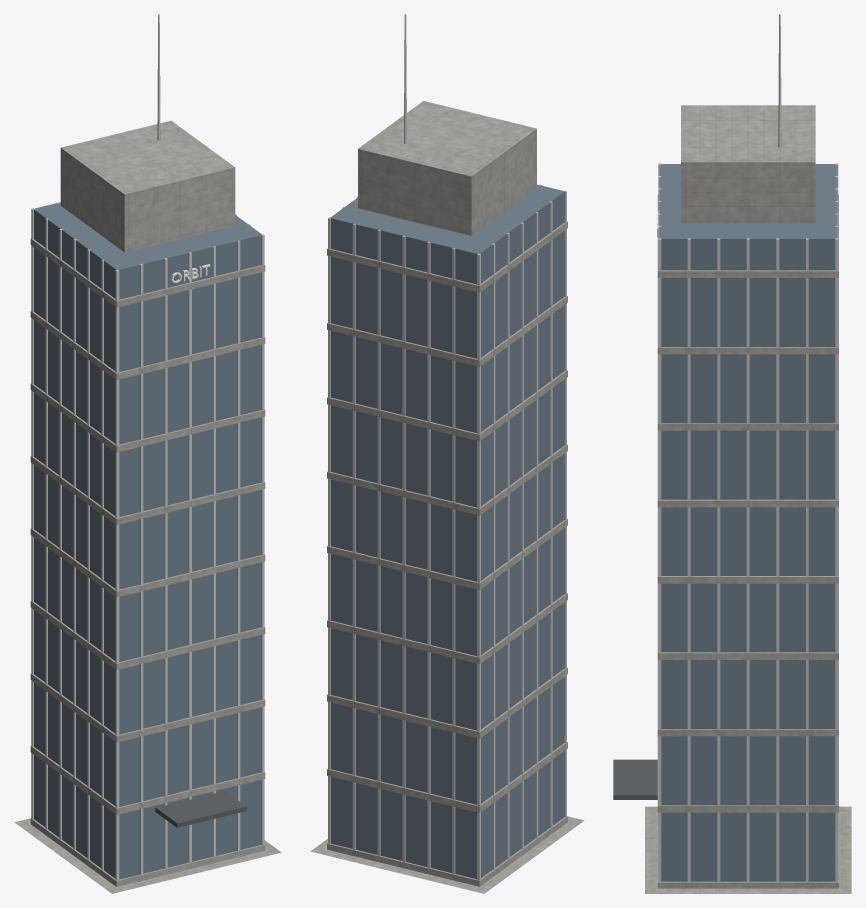
Rendered from office_2.gltf.
3 renders of one model, left to right at view 1: azimuth 30°, elevation 25°; view 2: azimuth 150°, elevation 25°; view 3: azimuth 270°, elevation 25°, orthographic. The views are drawn at different scales.
Visible parts, largest first — view 1: office_2; view 2: office_2; view 3: office_2.
Boxes of the visible parts, bbox=[...] form: office_2: bbox=[14, 14, 281, 893]; office_2: bbox=[310, 14, 584, 893]; office_2: bbox=[613, 14, 851, 893].
Size of the model in its own units: 1.96 by 8.9 by 2.26.
5 materials, 1 textured.
